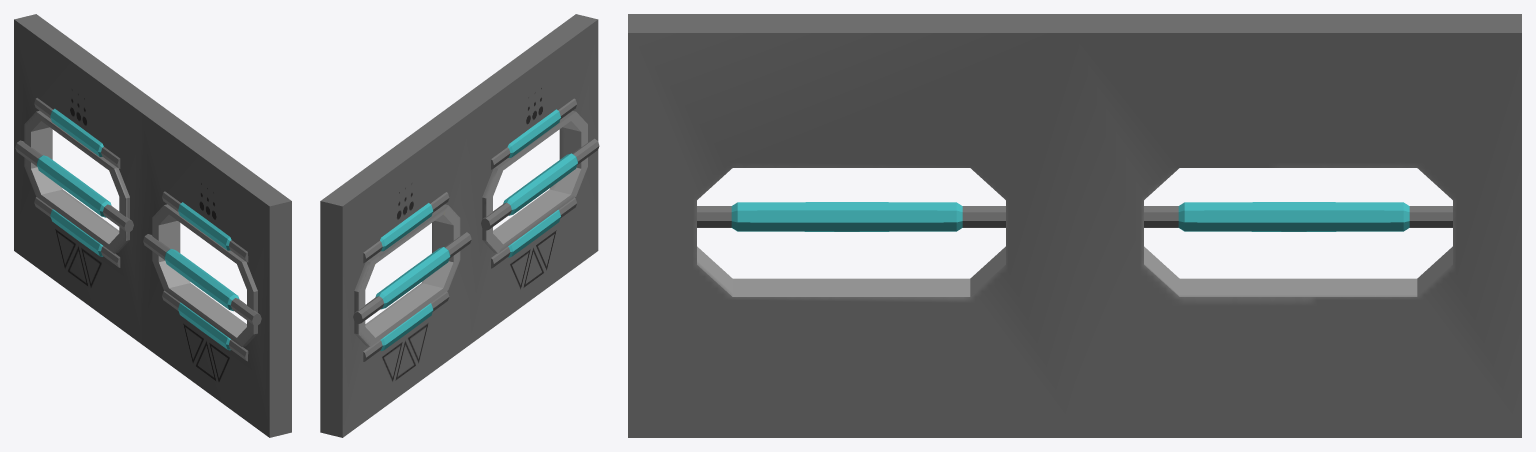
Rendered from SM_B1_Wall3.fbx.
The picture shows the model from 3 angles, left to right: view 1: azimuth 30°, elevation 25°; view 2: azimuth 150°, elevation 25°; view 3: azimuth 270°, elevation 25°; orthographic projection. The views are drawn at different scales.
Parts seen in each view (by area): view 1: SM_B1_Wall3; view 2: SM_B1_Wall3; view 3: SM_B1_Wall3.
Part boxes in pixels (box(x1,y1,x2,y2)): SM_B1_Wall3: box(14, 14, 291, 437); SM_B1_Wall3: box(320, 14, 599, 437); SM_B1_Wall3: box(628, 14, 1521, 437).
Bounding box in the file's own units: 60.24 × 799 × 399.
1 material, 1 textured.
